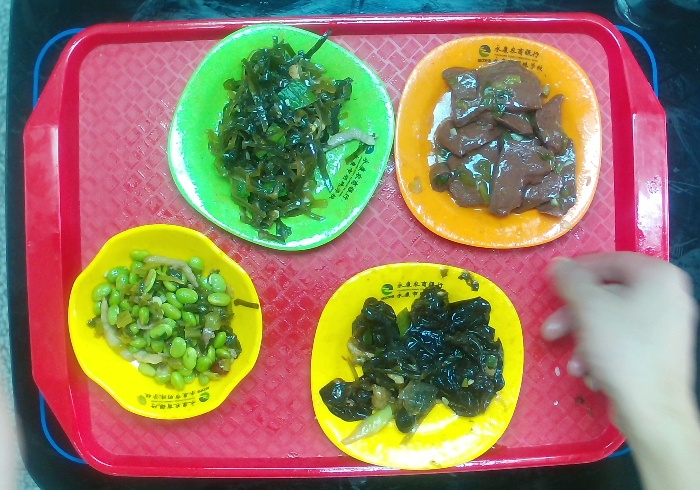YKMZ-Huang_Se_Ao_Bian_Wan: (66, 223, 267, 422)
YKMZ-Huang_Se_Fang_Die: (307, 260, 527, 471)
YKMZ-Ju_Se_Fang_Die: (393, 33, 604, 252)
YKMZ-Lv_Se_Fang_Die: (165, 22, 398, 253)
